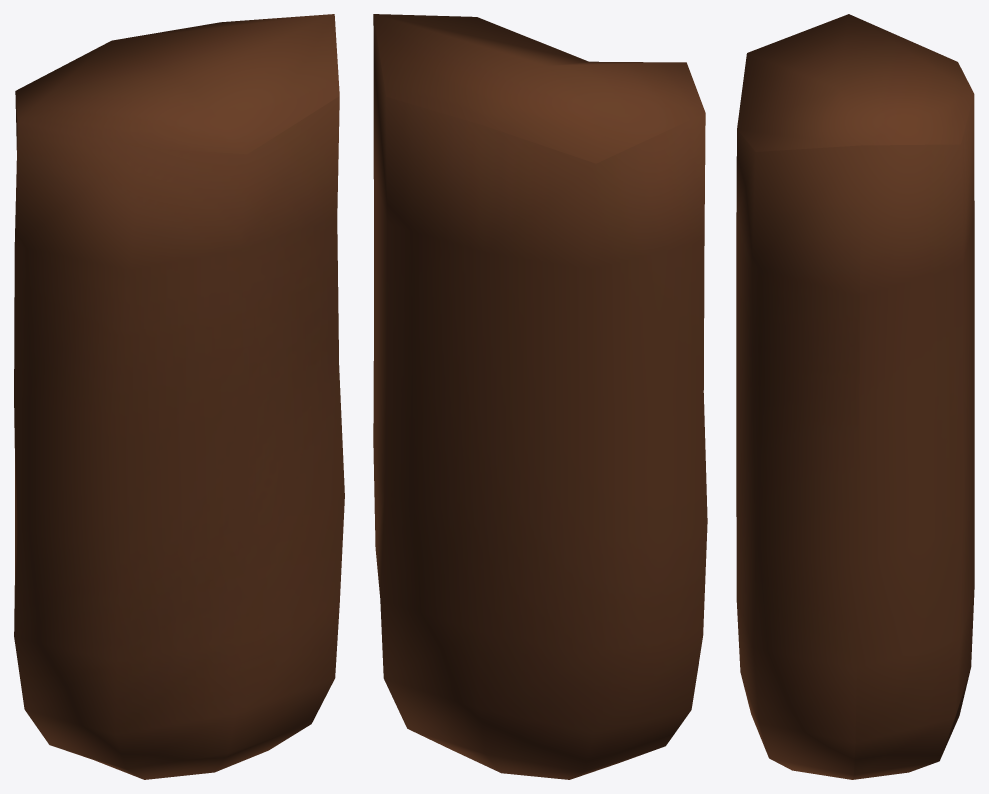
The model's file is gingerbread_leg.fbx.
The picture shows the model from 3 angles, left to right: view 1: azimuth 30°, elevation 25°; view 2: azimuth 150°, elevation 25°; view 3: azimuth 270°, elevation 25°; orthographic projection. The views are drawn at different scales.
Parts seen in each view (by area): view 1: part_leg; view 2: part_leg; view 3: part_leg.
Boxes of the visible parts, x1,y1,x2,y2 form: part_leg: (14, 14, 344, 779); part_leg: (373, 14, 707, 779); part_leg: (736, 14, 974, 779).
Size of the model in its own units: 29.49 by 60.55 by 19.06.
Materials: 1 (1 with a texture image).
